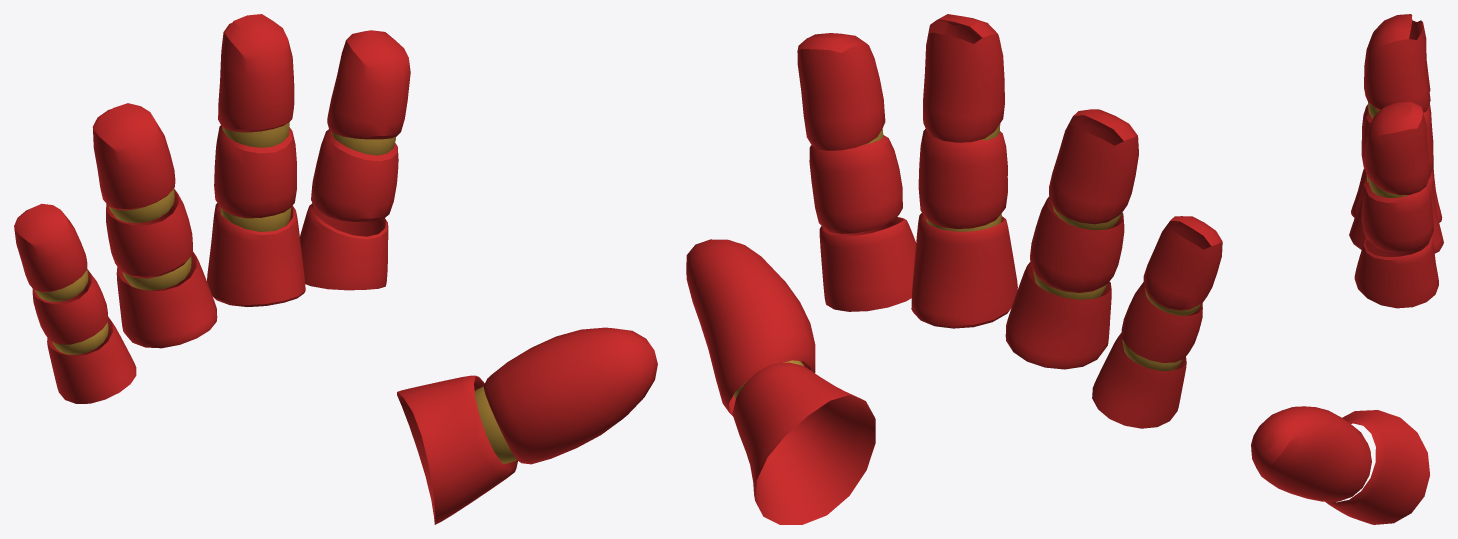
The model's file is Fingers.fbx.
3 views of the same model, side by side, from view 1: azimuth 30°, elevation 25°; view 2: azimuth 150°, elevation 25°; view 3: azimuth 270°, elevation 25° (orthographic). The views are drawn at different scales.
Parts seen in each view (by area): view 1: thumbTip, thumbProximal, middleTip, middleProx, IndexFinger_Tip, ringTip, indexProx, middleMid, indexMid, ringProx, pinkeyTip, ringMid (+8 smaller); view 2: thumbProximal, thumbTip, middleProx, middleTip, IndexFinger_Tip, ringTip, middleMid, indexProx, ringProx, indexMid, ringMid, pinkeyTip (+2 smaller); view 3: thumbTip, thumbProximal, IndexFinger_Tip, middleTip, indexProx, indexMid, middleProx, middleMid, ringProx, ringTip.
Part boxes in pixels (box(x1,y1,x2,y2)): thumbTip: box(483, 327, 657, 464); thumbProximal: box(397, 375, 517, 524); middleTip: box(218, 14, 294, 132); middleProx: box(207, 203, 305, 306); IndexFinger_Tip: box(327, 30, 410, 139); ringTip: box(92, 103, 175, 210); indexProx: box(300, 203, 388, 290); middleMid: box(214, 125, 296, 218); indexMid: box(311, 129, 398, 221); ringProx: box(116, 252, 217, 348); pinkeyTip: box(14, 203, 87, 292); ringMid: box(106, 188, 192, 278); thumbProximal: box(732, 362, 875, 524); thumbTip: box(686, 239, 815, 415); middleProx: box(911, 213, 1017, 328); middleTip: box(923, 14, 1004, 142); IndexFinger_Tip: box(797, 33, 885, 150); ringTip: box(1049, 109, 1138, 224); middleMid: box(918, 128, 1007, 228); indexProx: box(819, 217, 915, 311); ringProx: box(1005, 262, 1111, 369); indexMid: box(809, 135, 902, 233); ringMid: box(1030, 196, 1124, 292); pinkeyTip: box(1143, 216, 1222, 310); thumbTip: box(1251, 406, 1371, 502); thumbProximal: box(1326, 410, 1429, 524); IndexFinger_Tip: box(1364, 101, 1430, 195); middleTip: box(1364, 15, 1430, 112); indexProx: box(1354, 236, 1438, 308); indexMid: box(1361, 181, 1433, 252); middleProx: box(1349, 173, 1443, 253); middleMid: box(1361, 108, 1433, 172); ringProx: box(1351, 168, 1442, 222); ringTip: box(1364, 14, 1430, 91).
Size of the model in its own units: 103 by 91.62 by 36.59.
